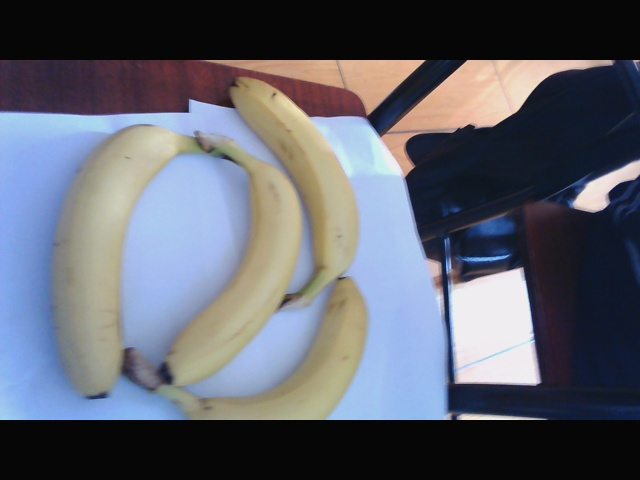banana: (159, 83, 364, 422), (50, 109, 150, 395)
